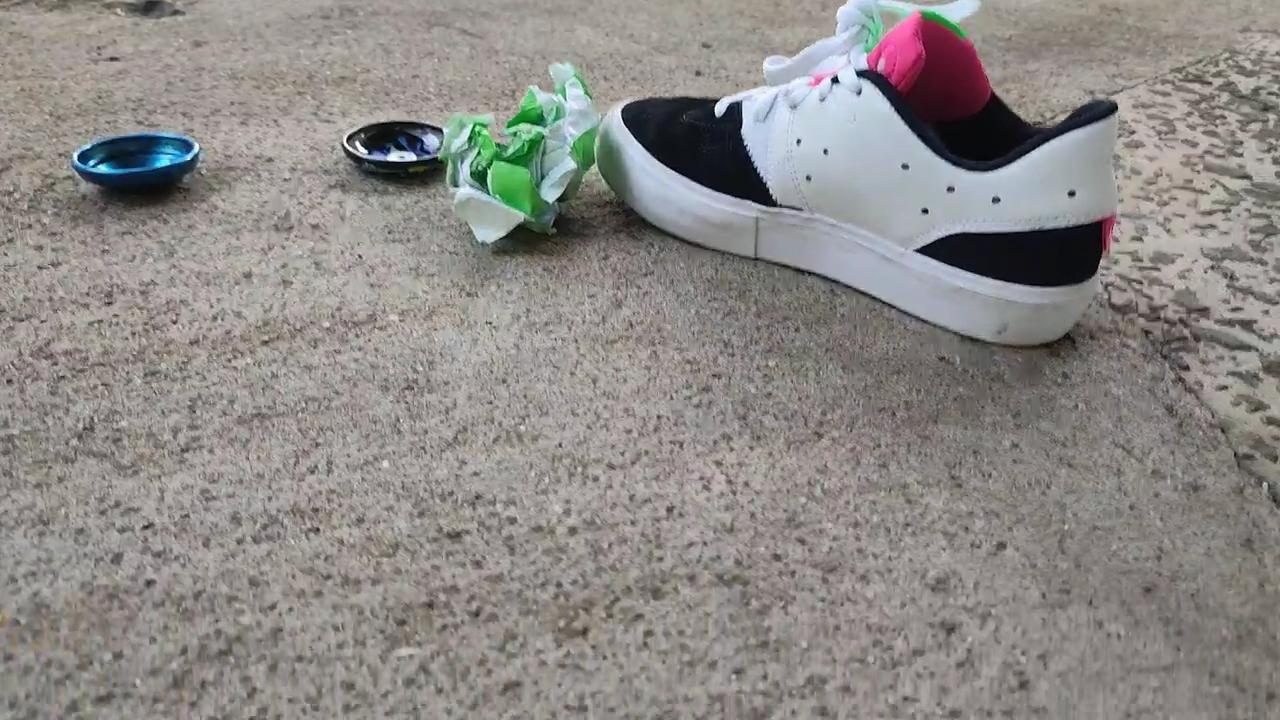Paper: (446, 32, 594, 252)
